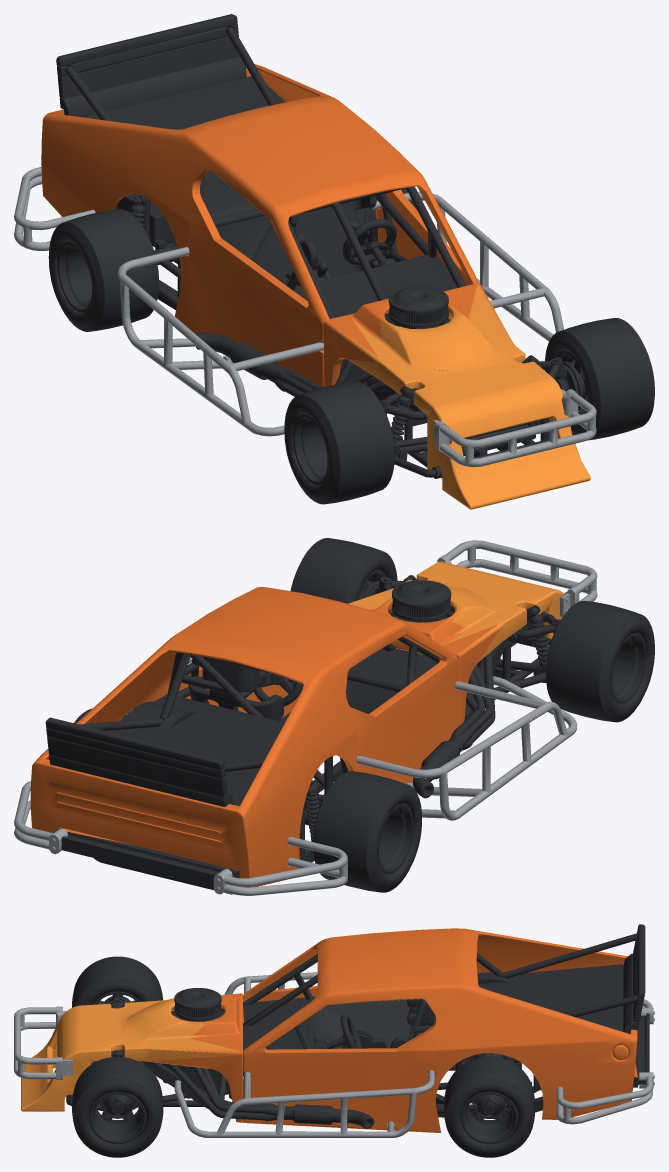
File: TourModifiedDetail75k.fbx
The picture shows the model from 3 angles, top to bottom: view 1: azimuth 30°, elevation 25°; view 2: azimuth 150°, elevation 25°; view 3: azimuth 270°, elevation 25°; orthographic projection. The views are drawn at different scales.
Visible parts, largest first — view 1: BodyPaint, wheel, HoodTrunkPaint, ModifiedMetal, TourModified.Wheel.Ft.R, TourModified.Wheel.Bk.R, TourModified.Wheel.Ft.L; view 2: BodyPaint, wheel, ModifiedMetal, TourModified.Wheel.Ft.R, TourModified.Wheel.Bk.R, HoodTrunkPaint, TourModified.Wheel.Ft.L; view 3: BodyPaint, wheel, HoodTrunkPaint, ModifiedMetal, TourModified.Wheel.Ft.L, TourModified.Wheel.Bk.L, TourModified.Wheel.Ft.R.
Boxes of the visible parts, x1,y1,x2,y2 form: BodyPaint: [41, 64, 506, 387]; wheel: [56, 14, 583, 478]; HoodTrunkPaint: [329, 283, 590, 509]; ModifiedMetal: [14, 167, 596, 466]; TourModified.Wheel.Ft.R: [284, 381, 394, 504]; TourModified.Wheel.Bk.R: [48, 209, 158, 331]; TourModified.Wheel.Ft.L: [544, 318, 654, 440]; BodyPaint: [30, 587, 500, 887]; wheel: [45, 575, 560, 894]; ModifiedMetal: [14, 540, 597, 895]; TourModified.Wheel.Ft.R: [546, 600, 654, 722]; TourModified.Wheel.Bk.R: [313, 771, 421, 892]; HoodTrunkPaint: [348, 561, 563, 662]; TourModified.Wheel.Ft.L: [290, 538, 397, 603]; BodyPaint: [151, 928, 637, 1132]; wheel: [66, 924, 649, 1128]; HoodTrunkPaint: [21, 993, 241, 1111]; ModifiedMetal: [14, 972, 654, 1137]; TourModified.Wheel.Ft.L: [72, 1057, 163, 1157]; TourModified.Wheel.Bk.L: [444, 1056, 535, 1157]; TourModified.Wheel.Ft.R: [72, 956, 162, 1052].
Bounding box in the file's own units: 133 × 74.66 × 290.
